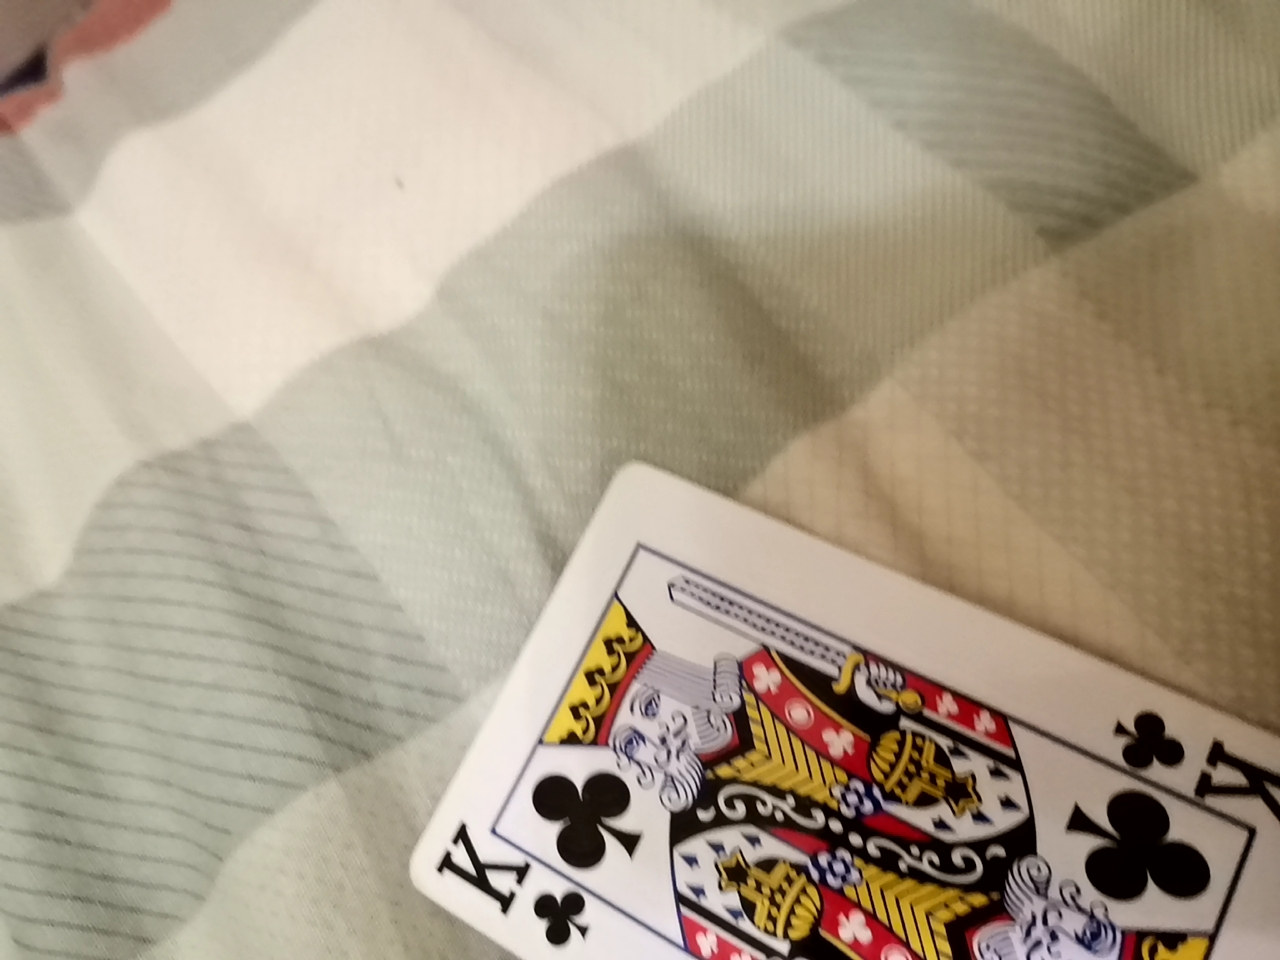mh k: (383, 458, 1275, 951)
